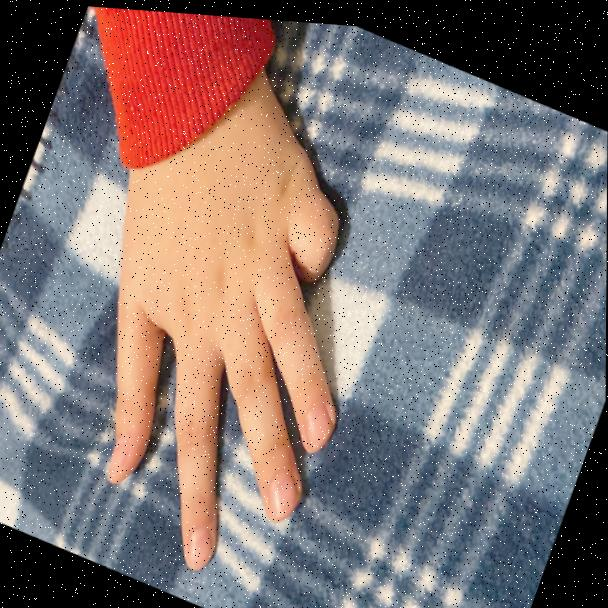five: (0, 3, 447, 608)
